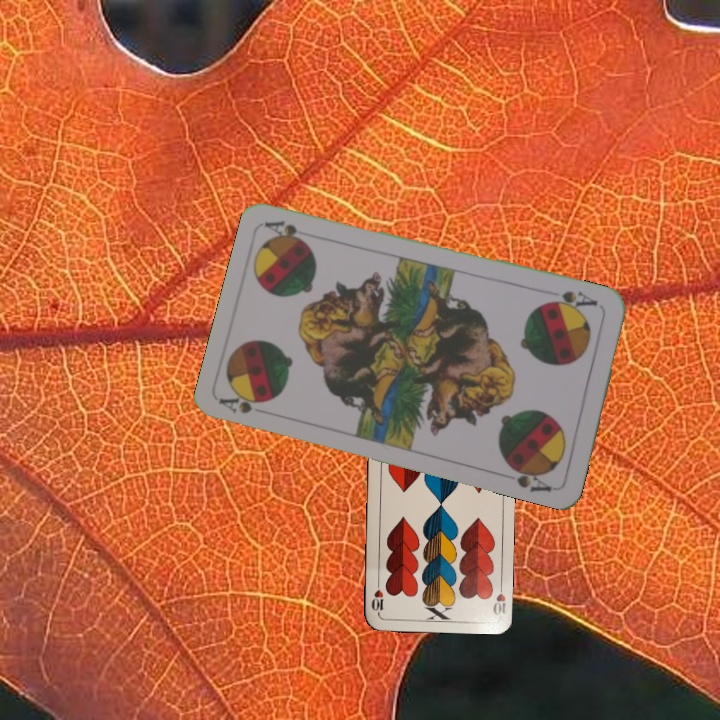H10: (489, 577, 508, 617)
SA: (544, 286, 604, 315), (217, 387, 274, 416)
